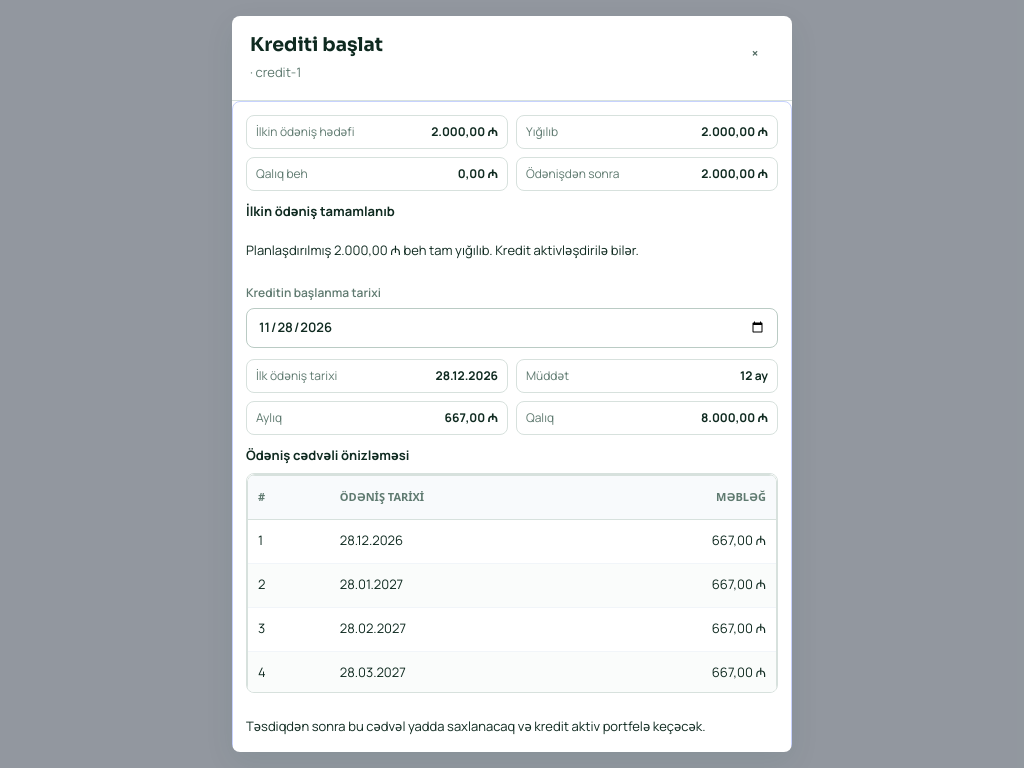
Test: retains the selected date and displays a failed activation instead of closing the dialog
Type "2026-10-08" into the date field labelled "Kreditin başlanma tarixi".
click(512, 328); type("2026-10-08")  # box [246,308,778,348]
(page scrolled)
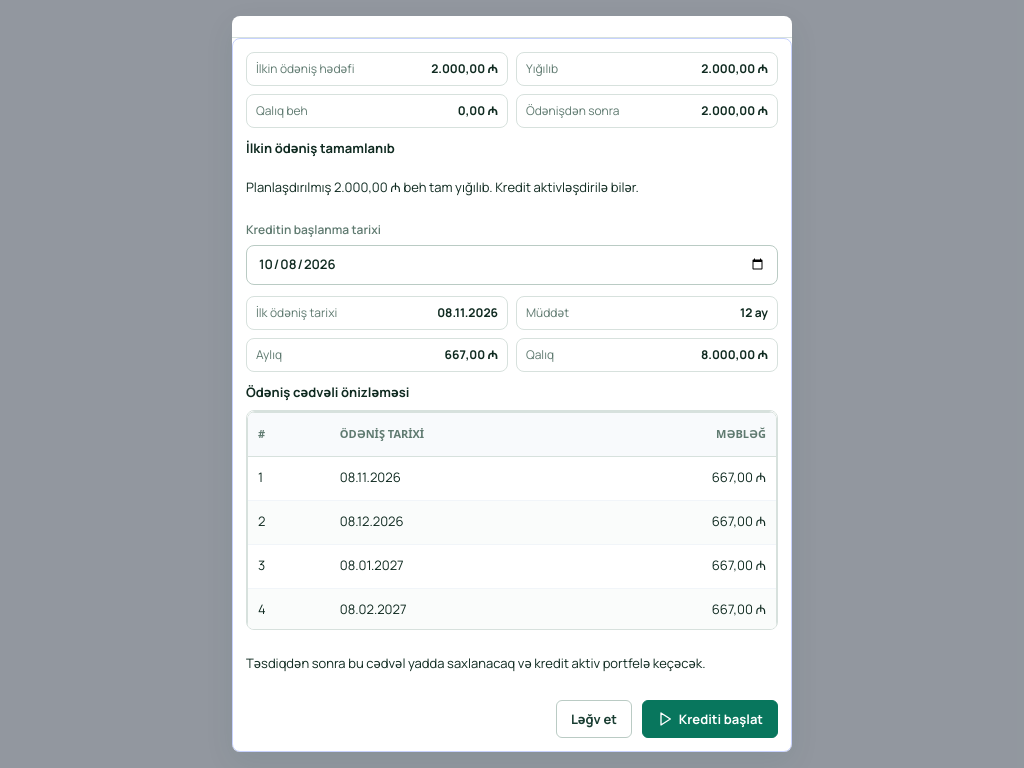
Submit the form, box [232,38,792,752]
(page scrolled)
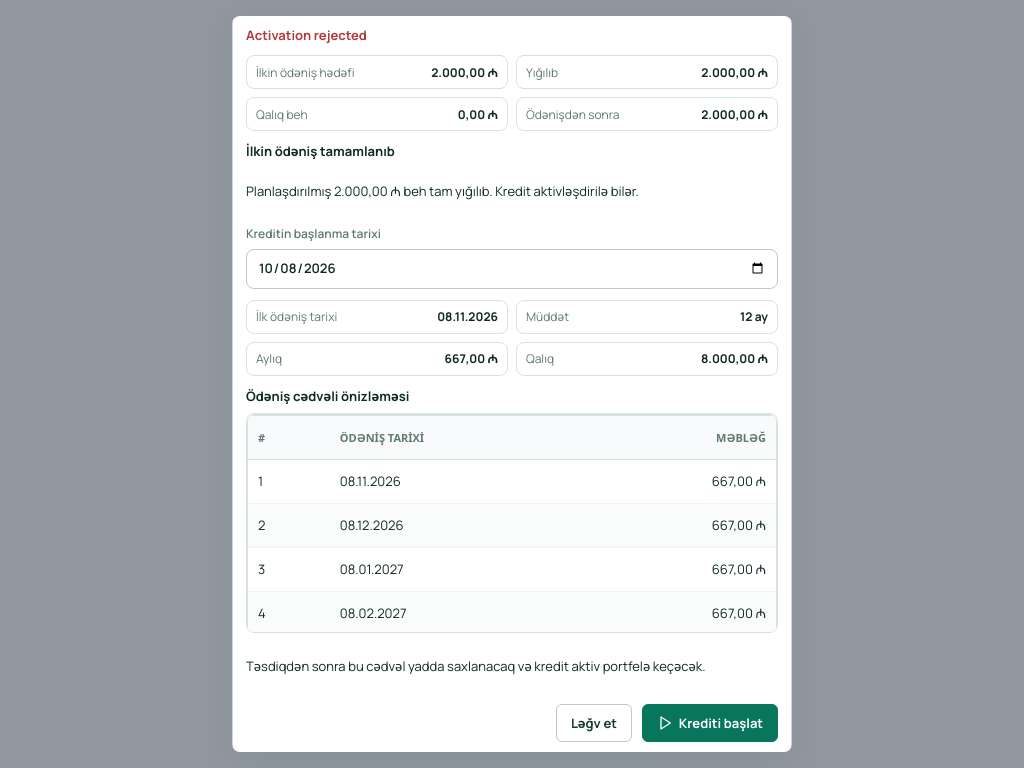
Expected: the message reads "Activation rejected", [246,26,367,44]
Submit the form, box [232,12,792,756]
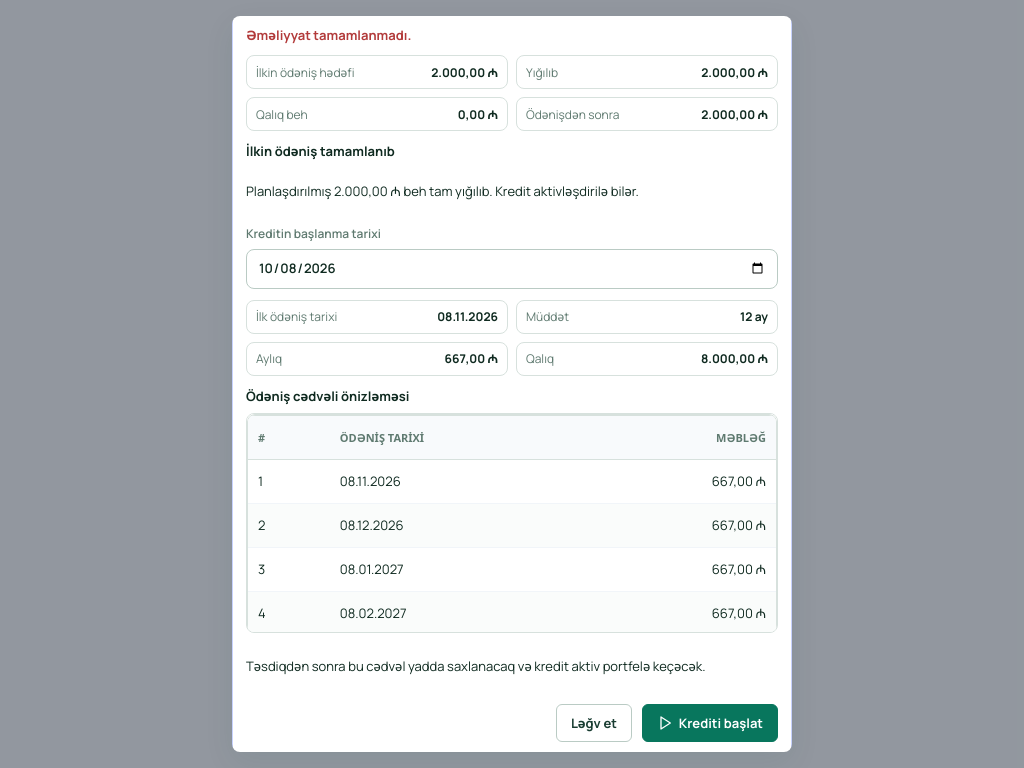
Expected: the message reads "Əməliyyat tamamlanmadı.", [246,26,411,44]
